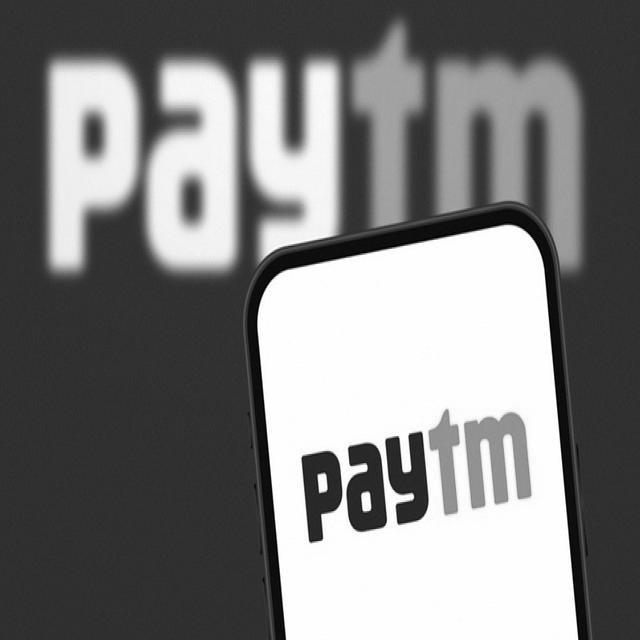fully_visible: (36, 36, 588, 290), (293, 402, 541, 544)
